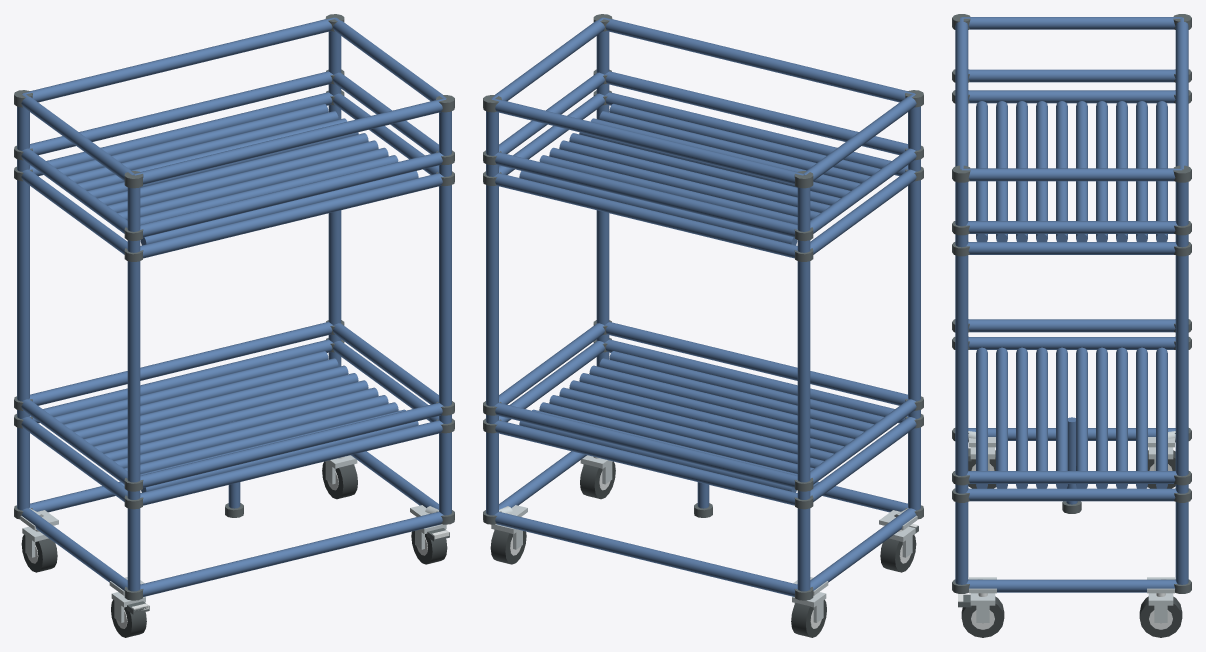
Rendered from creformIptCart.glb.
3 renders of one model, left to right at view 1: azimuth 30°, elevation 25°; view 2: azimuth 150°, elevation 25°; view 3: azimuth 270°, elevation 25°, orthographic.
Parts seen in each view (by area): view 1: IPT CREFORM-vagn 750 × 450; view 2: IPT CREFORM-vagn 750 × 450; view 3: IPT CREFORM-vagn 750 × 450.
Part boxes in pixels (box(x1,y1,x2,y2)): IPT CREFORM-vagn 750 × 450: box(14, 14, 454, 637); IPT CREFORM-vagn 750 × 450: box(483, 14, 923, 637); IPT CREFORM-vagn 750 × 450: box(952, 14, 1191, 637).
Bounding box in the file's own units: 0.8179 × 1.12 × 0.52.
